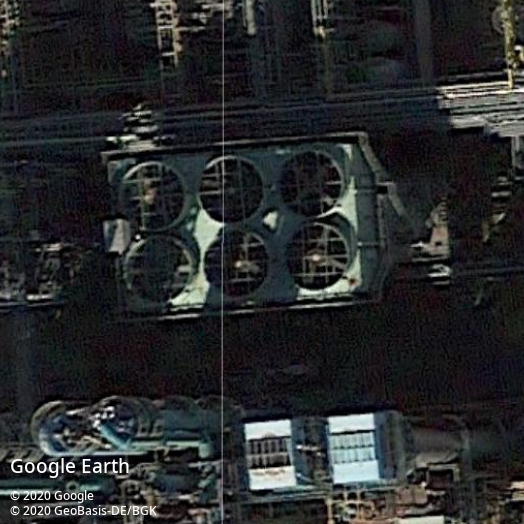Vent: (123, 235, 194, 308), (197, 155, 267, 226), (201, 228, 271, 299), (118, 162, 188, 233), (284, 223, 350, 292), (279, 151, 342, 217)
